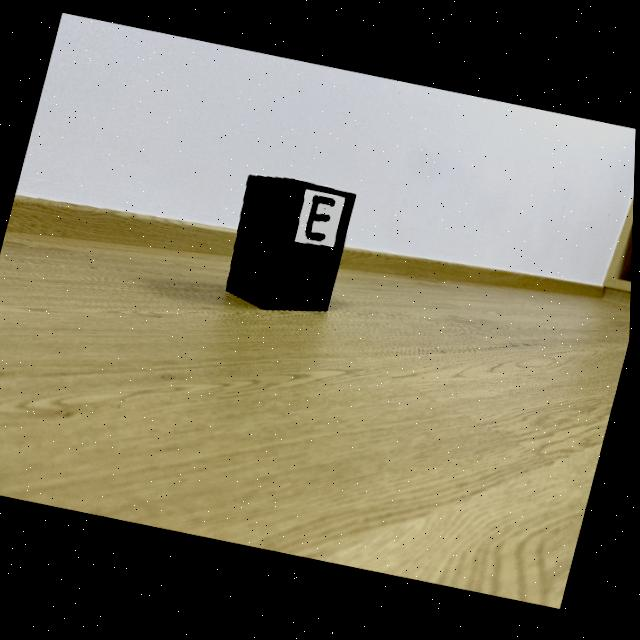E: (306, 198, 336, 243)
